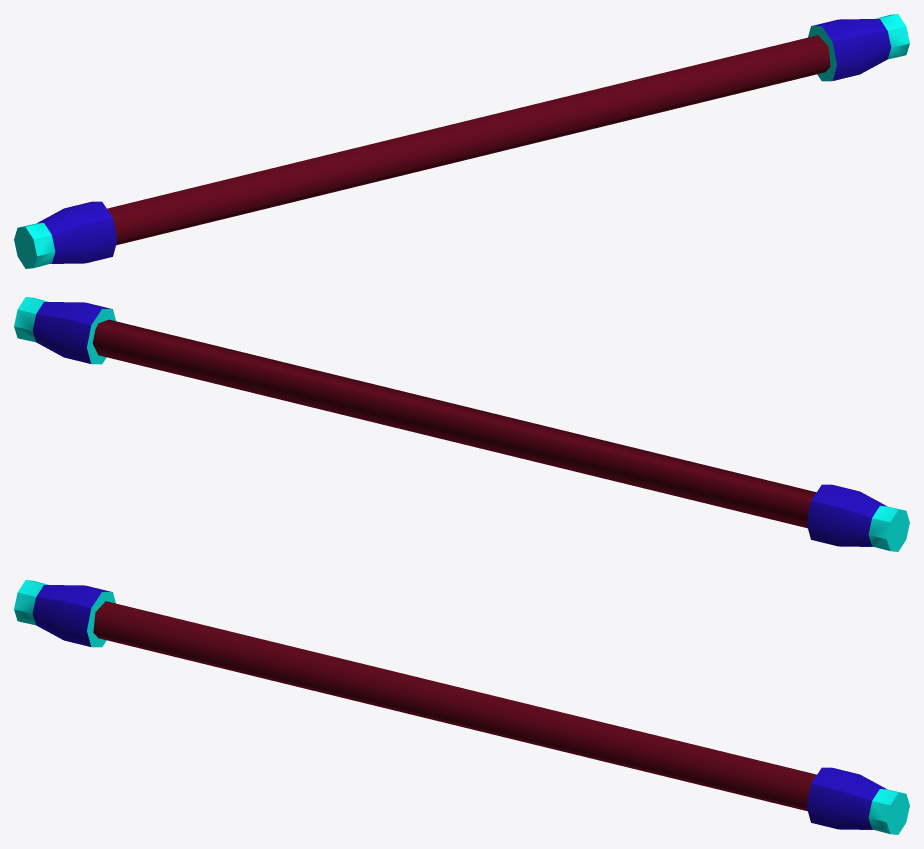
The model's file is EFT0310017.fbx.
3 renders of one model, top to bottom at view 1: azimuth 30°, elevation 25°; view 2: azimuth 150°, elevation 25°; view 3: azimuth 330°, elevation 25°, orthographic.
Parts seen in each view (by area): view 1: smEFT0310017; view 2: smEFT0310017; view 3: smEFT0310017.
Part boxes in pixels (x1,y1,x2,y2): smEFT0310017: (14, 14, 909, 268); smEFT0310017: (14, 297, 909, 551); smEFT0310017: (14, 580, 909, 834).
Bounding box in the file's own units: 272 × 16.47 × 16.47.
2 materials, 1 textured.
